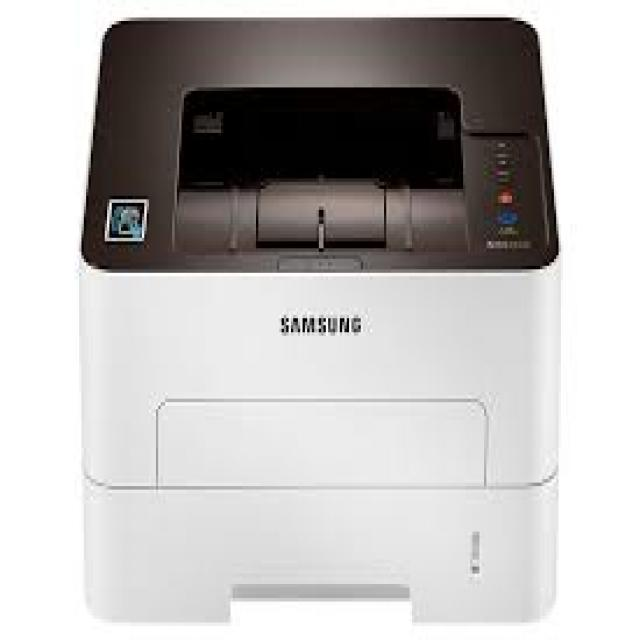printer: (75, 10, 562, 636)
